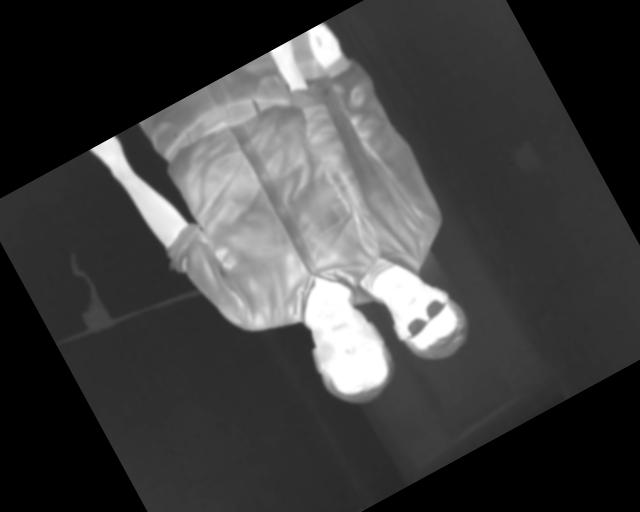face: (291, 289, 409, 418), (375, 264, 479, 375)
